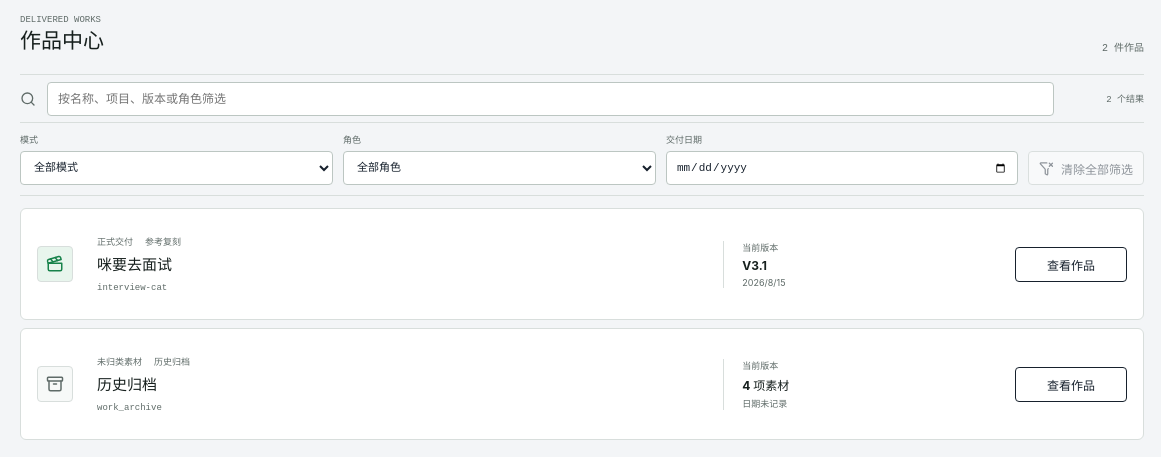
Scenario: WorksPage › filters by authoritative mode, role and delivery date and can reset
This screenshot has width=1161, height=457.
Expected: the link "咪要去面试" is shown, [97,255,172,274]
Select "参考复刻" in the dropdown named "作品模式" at (176, 168), box [20,151,333,185]
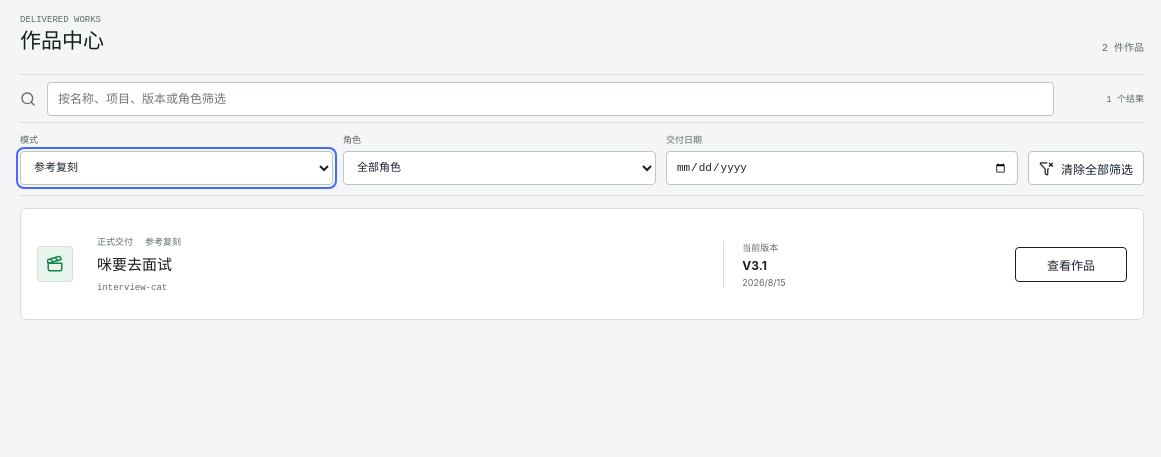
Select "豆包" in the dropdown labelled "角色" at (500, 168), box [343,151,656,185]
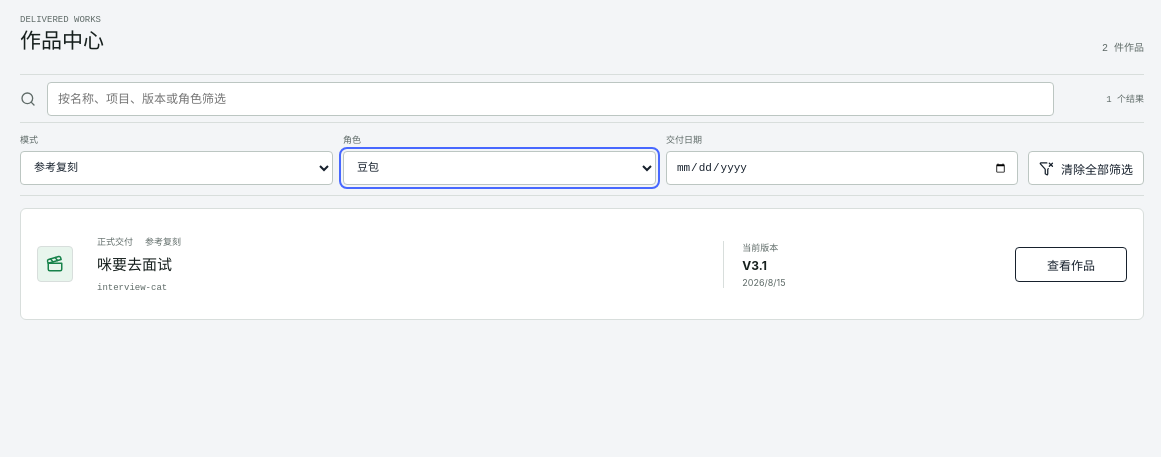
Type "2026-08-15" into the date field labelled "交付日期".
click(842, 168); type("2026-08-15")  # box [666,151,1018,185]
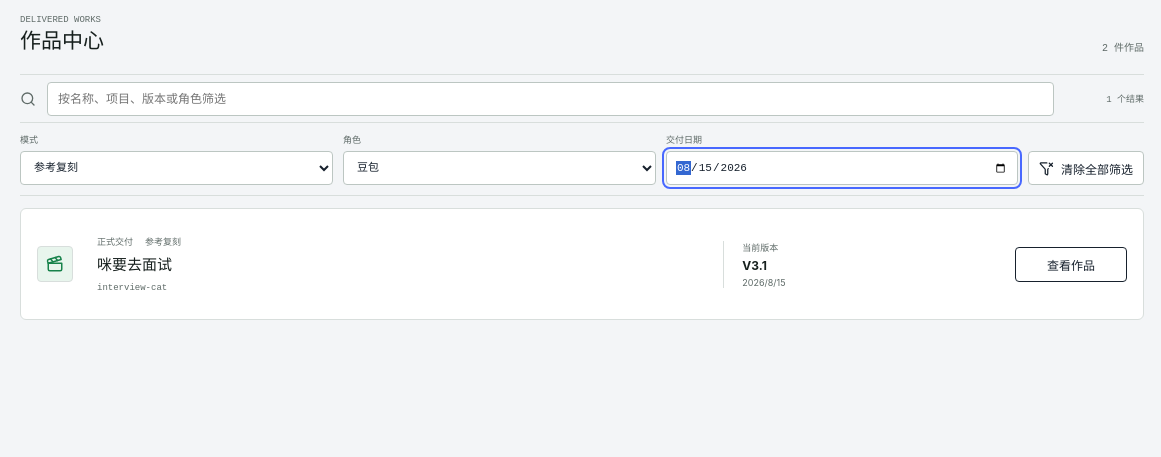
Expected: the heading "咪要去面试" is shown, [97,255,172,274]
Expected: the text "历史归档" is not shown
Click the button "清除全部筛选".
click(1086, 168)  # box [1028,151,1144,185]
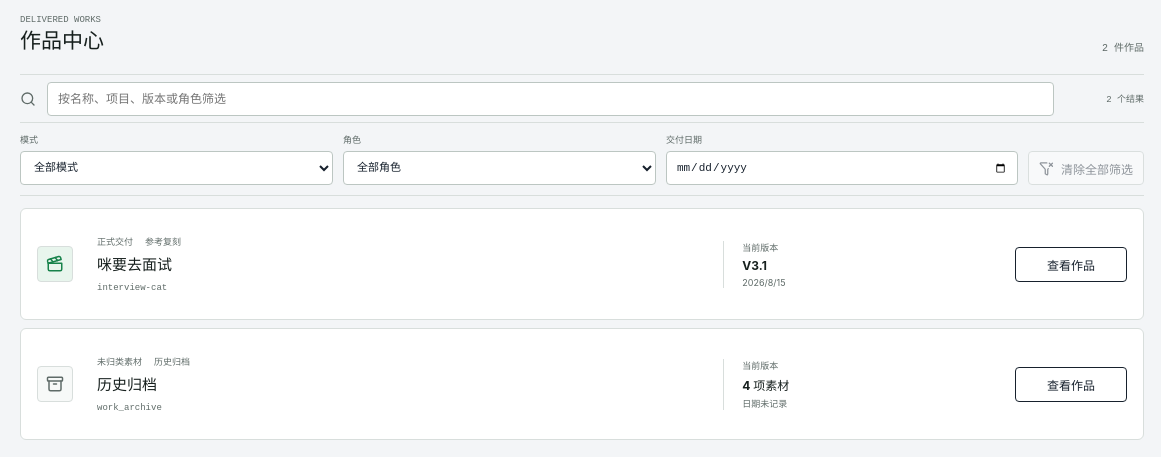
Result: the heading "历史归档" is shown at [97,375,157,394]
Result: the date field labelled "交付日期" is empty at [666,151,1018,185]
